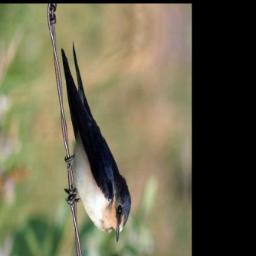Swallow: (49, 38, 139, 247)
